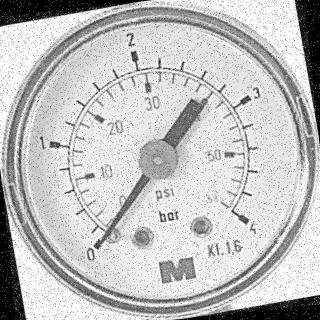gauge: (0, 0, 320, 319), (135, 136, 181, 182), (81, 222, 119, 263), (233, 204, 257, 240), (97, 230, 111, 244)
